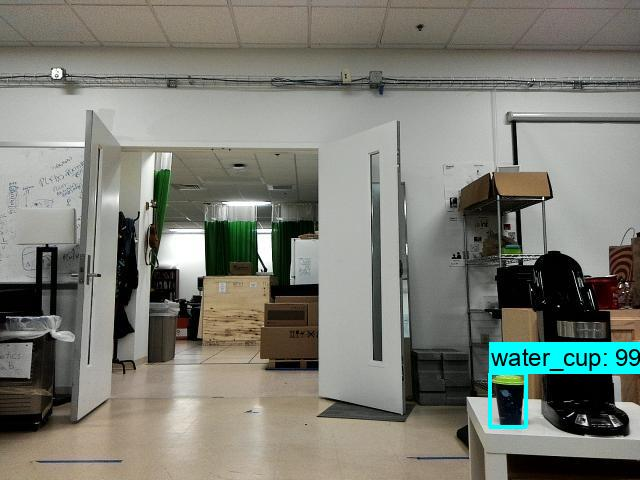water_cup: (491, 373, 526, 425)
